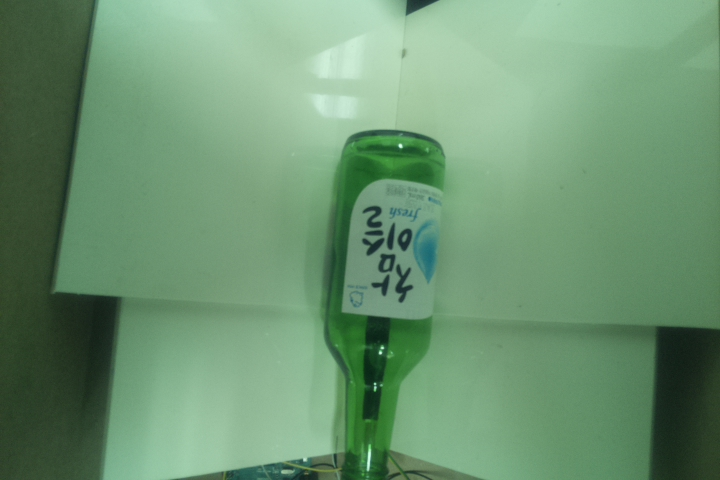soju: (319, 124, 445, 480)
